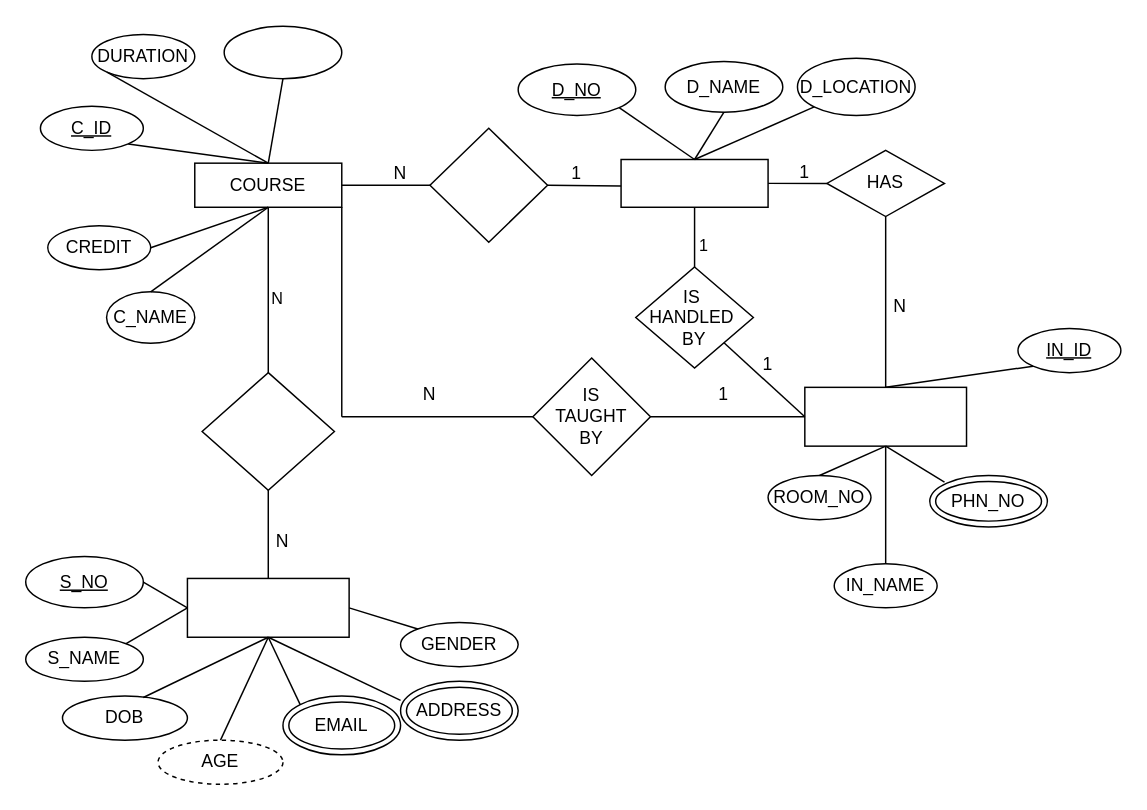
Some shapes in this 1147 by 810 pixel diagram are drawn without their labels. Each missing label, with the centre of its shape:
DEPARTMENT: [694,182]
ENROLLED BY: [267,430]
INSTRUCTOR: [885,416]
OFFERS: [488,184]
PRE_ REQUISITE: [282,52]
STUDENT: [267,607]
